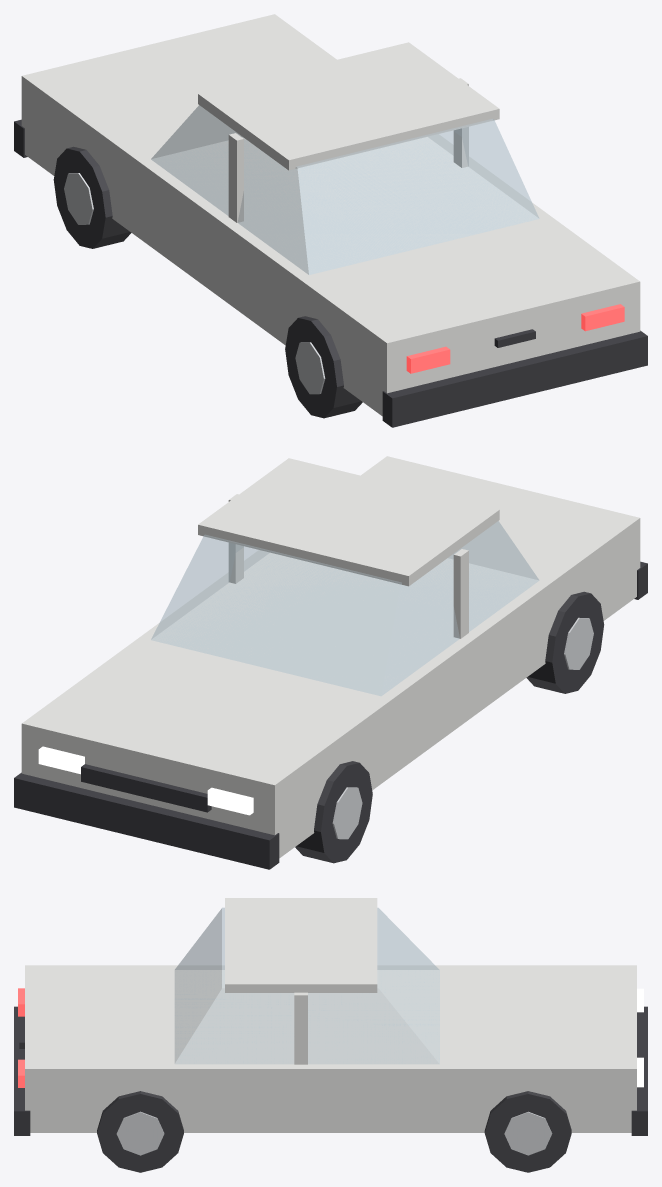
The model's file is car_sedan_white.glb.
3 renders of one model, top to bottom at view 1: azimuth 30°, elevation 25°; view 2: azimuth 150°, elevation 25°; view 3: azimuth 270°, elevation 25°, orthographic. The views are drawn at different scales.
Visible parts, largest first — view 1: body, wheel_fl, wheel_rl; view 2: body, wheel_rl, wheel_fl; view 3: body, wheel_fr, wheel_rr.
Boxes of the visible parts, x1,y1,x2,y2 form: body: (14, 14, 647, 427); wheel_fl: (53, 146, 131, 248); wheel_rl: (285, 316, 362, 418); body: (14, 456, 647, 869); wheel_rl: (526, 591, 604, 693); wheel_fl: (295, 761, 372, 863); body: (14, 898, 647, 1135); wheel_fr: (484, 1091, 571, 1172); wheel_rr: (97, 1091, 183, 1172).
Size of the model in its own units: 1.92 by 1.5 by 4.66.
